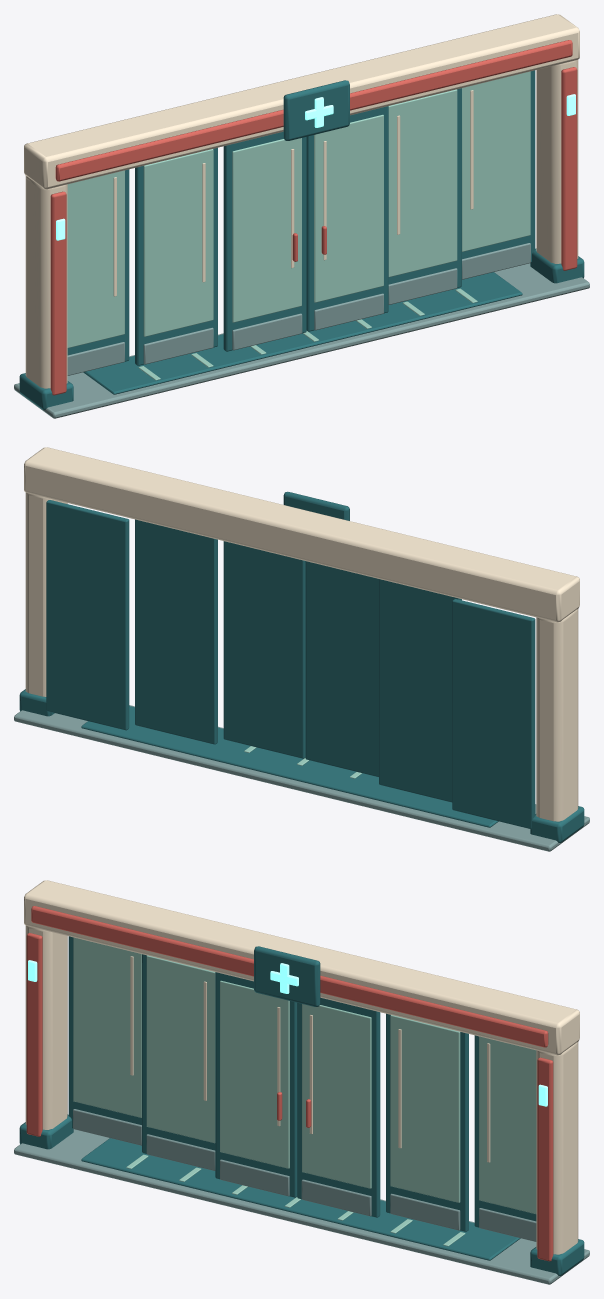
Rendered from entrance-door.glb.
The picture shows the model from 3 angles, top to bottom: view 1: azimuth 30°, elevation 25°; view 2: azimuth 150°, elevation 25°; view 3: azimuth 330°, elevation 25°; orthographic projection.
Visible parts, largest first — view 1: header_CeramicCream, EntranceLeafL1_MintCushion, EntranceLeafR1_MintCushion, EntranceLeafR0_MintCushion, EntranceLeafL0_MintCushion, CeramicCream, EntranceLeafR2_MintCushion, DeepTeal, EntranceLeafL2_MintCushion, header_CoralEnamel, BrushedMetal, CoralEnamel (+14 smaller); view 2: header_CeramicCream, EntranceLeafR2_DeepTeal, EntranceLeafL2_DeepTeal, EntranceLeafR1_DeepTeal, EntranceLeafR0_DeepTeal, EntranceLeafL1_DeepTeal, EntranceLeafL0_DeepTeal, CeramicCream, DeepTeal, BrushedMetal, header_DeepTeal; view 3: header_CeramicCream, EntranceLeafR1_MintCushion, EntranceLeafL1_MintCushion, EntranceLeafL0_MintCushion, EntranceLeafR0_MintCushion, CeramicCream, EntranceLeafL2_MintCushion, DeepTeal, EntranceLeafR2_MintCushion, header_CoralEnamel, BrushedMetal, CoralEnamel (+14 smaller).
Boxes of the visible parts, bbox=[...] form: header_CeramicCream: bbox=[24, 14, 579, 189]; EntranceLeafL1_MintCushion: bbox=[143, 149, 213, 336]; EntranceLeafR1_MintCushion: bbox=[388, 89, 457, 277]; EntranceLeafR0_MintCushion: bbox=[314, 114, 383, 302]; EntranceLeafL0_MintCushion: bbox=[232, 138, 301, 322]; CeramicCream: bbox=[25, 60, 578, 388]; EntranceLeafR2_MintCushion: bbox=[462, 71, 530, 251]; DeepTeal: bbox=[19, 248, 584, 409]; EntranceLeafL2_MintCushion: bbox=[67, 170, 124, 347]; header_CoralEnamel: bbox=[55, 40, 572, 181]; BrushedMetal: bbox=[14, 263, 589, 418]; CoralEnamel: bbox=[50, 67, 577, 395]; header_CeramicCream: bbox=[24, 447, 579, 622]; EntranceLeafR2_DeepTeal: bbox=[46, 500, 129, 730]; EntranceLeafL2_DeepTeal: bbox=[452, 599, 535, 829]; EntranceLeafR1_DeepTeal: bbox=[135, 519, 217, 744]; EntranceLeafR0_DeepTeal: bbox=[223, 541, 305, 758]; EntranceLeafL1_DeepTeal: bbox=[379, 579, 461, 802]; EntranceLeafL0_DeepTeal: bbox=[305, 561, 378, 776]; CeramicCream: bbox=[25, 493, 578, 821]; DeepTeal: bbox=[19, 689, 584, 842]; BrushedMetal: bbox=[14, 705, 589, 851]; header_DeepTeal: bbox=[283, 491, 349, 520]; header_CeramicCream: bbox=[24, 880, 579, 1055]; EntranceLeafR1_MintCushion: bbox=[390, 1015, 460, 1202]; EntranceLeafL1_MintCushion: bbox=[146, 955, 215, 1143]; EntranceLeafL0_MintCushion: bbox=[220, 980, 289, 1168]; EntranceLeafR0_MintCushion: bbox=[302, 1004, 371, 1188]; CeramicCream: bbox=[25, 926, 578, 1254]; EntranceLeafL2_MintCushion: bbox=[73, 937, 141, 1117]; DeepTeal: bbox=[19, 1114, 584, 1275]; EntranceLeafR2_MintCushion: bbox=[479, 1036, 536, 1213]; header_CoralEnamel: bbox=[31, 906, 548, 1047]; BrushedMetal: bbox=[14, 1129, 589, 1284]; CoralEnamel: bbox=[26, 933, 553, 1261].
Bounding box in the file's own units: 6.16 × 2.85 × 0.8.
